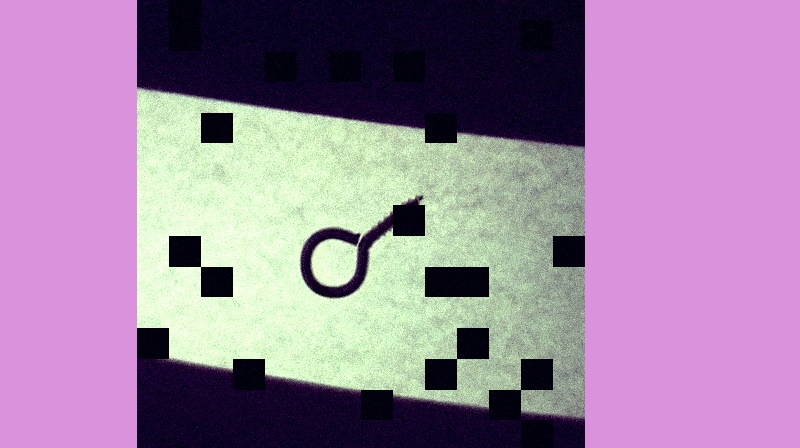O001: (298, 188, 429, 301)
